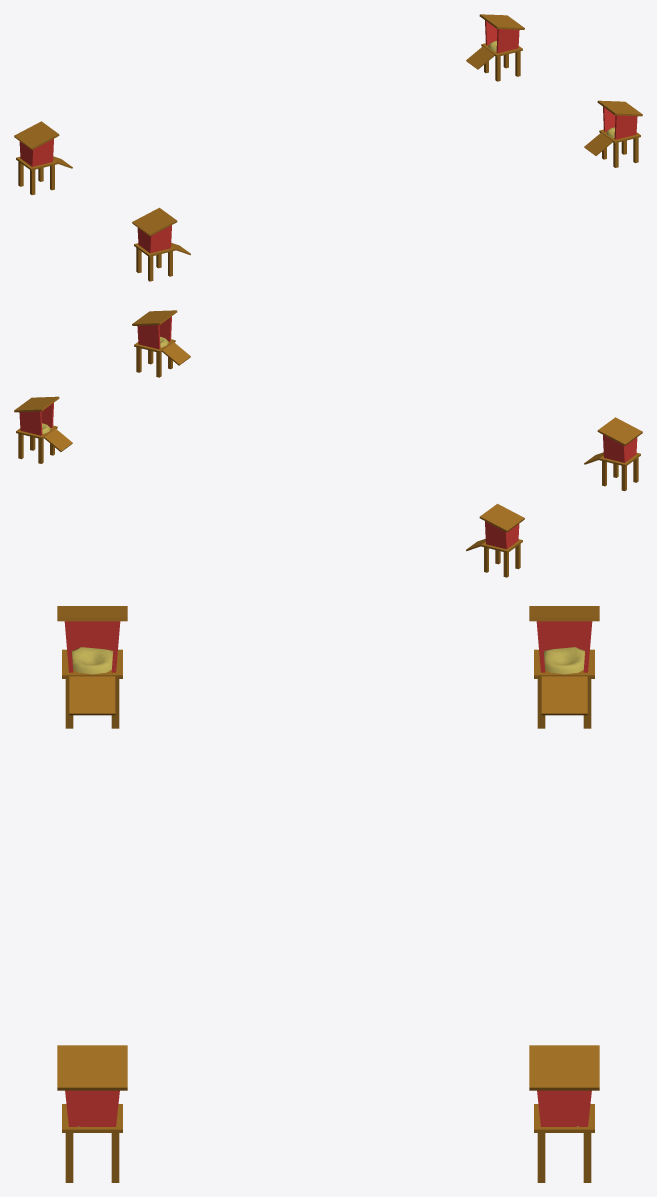
Rendered from Gallinero.fbx.
3 renders of one model, top to bottom at view 1: azimuth 30°, elevation 25°; view 2: azimuth 150°, elevation 25°; view 3: azimuth 270°, elevation 25°, orthographic. The views are drawn at different scales.
Visible parts, largest first — view 1: Gallinero.001; view 2: Gallinero.001; view 3: Gallinero.001.
Part boxes in pixels (box(x1,y1,x2,y2)): Gallinero.001: box(14, 14, 642, 281); Gallinero.001: box(14, 310, 642, 577); Gallinero.001: box(57, 606, 599, 1182).
Size of the model in its own units: 3787 by 415 by 1802.
